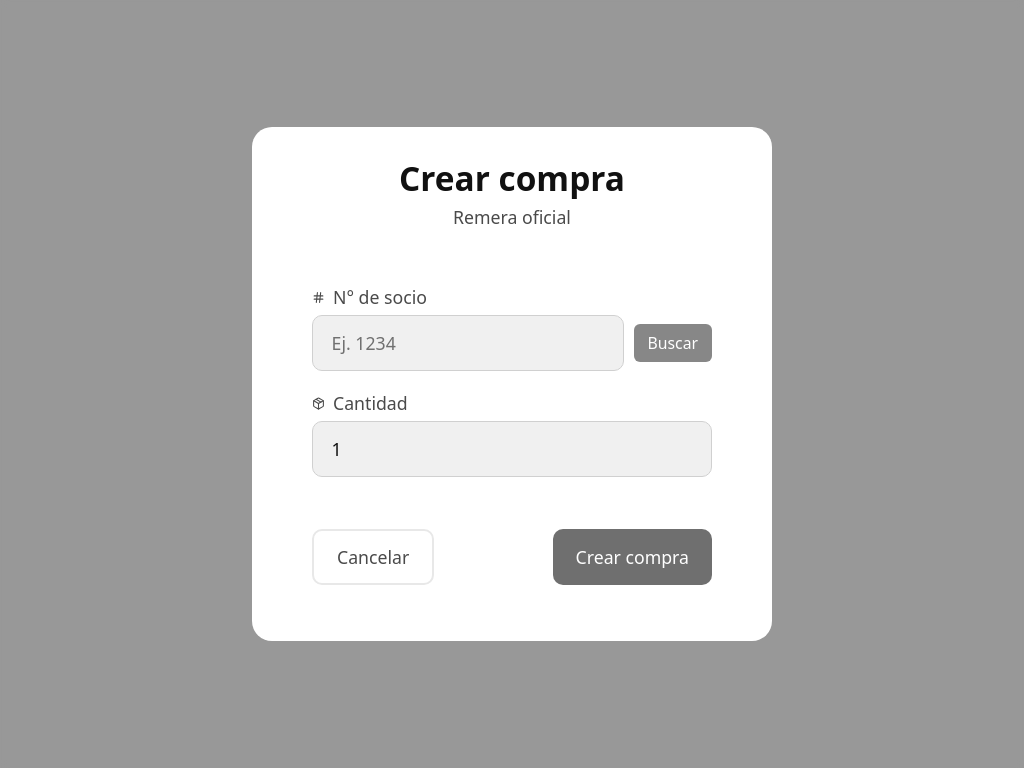
Scenario: CrearCompraForm › muestra el error de socio moroso indicando el socio incumpliendo
Type "1234" into the field with placeholder "Ej. 1234" at (468, 343), box [312,315,624,371]
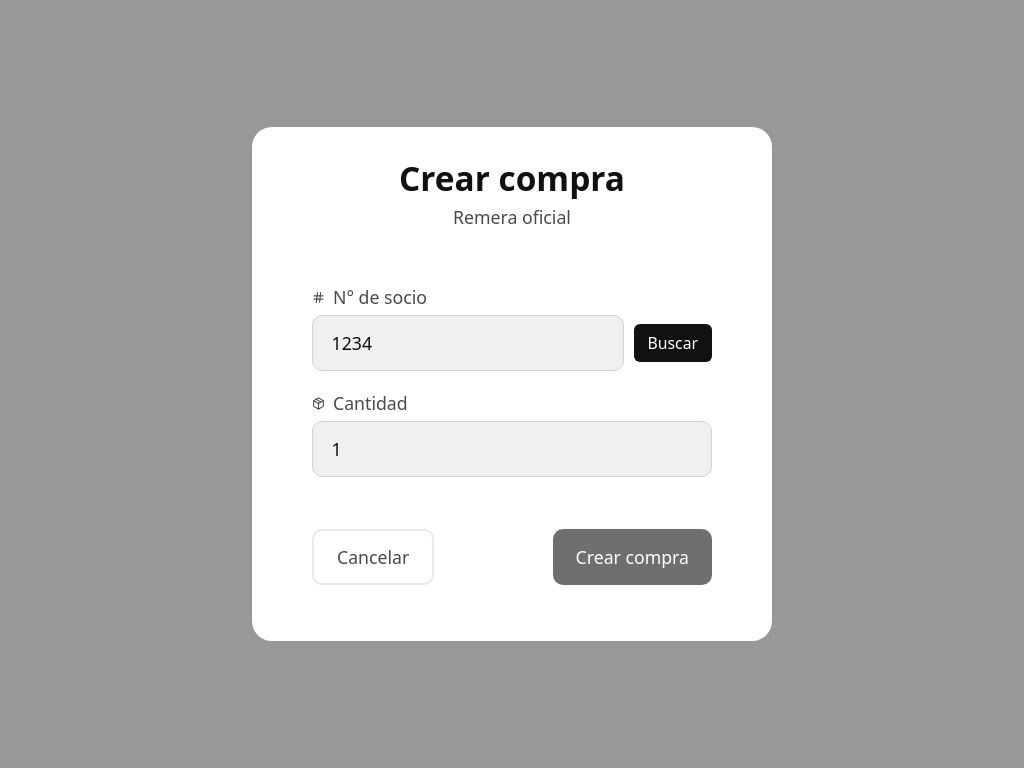
Click the button "Buscar" at (673, 343), box [634,324,712,362]
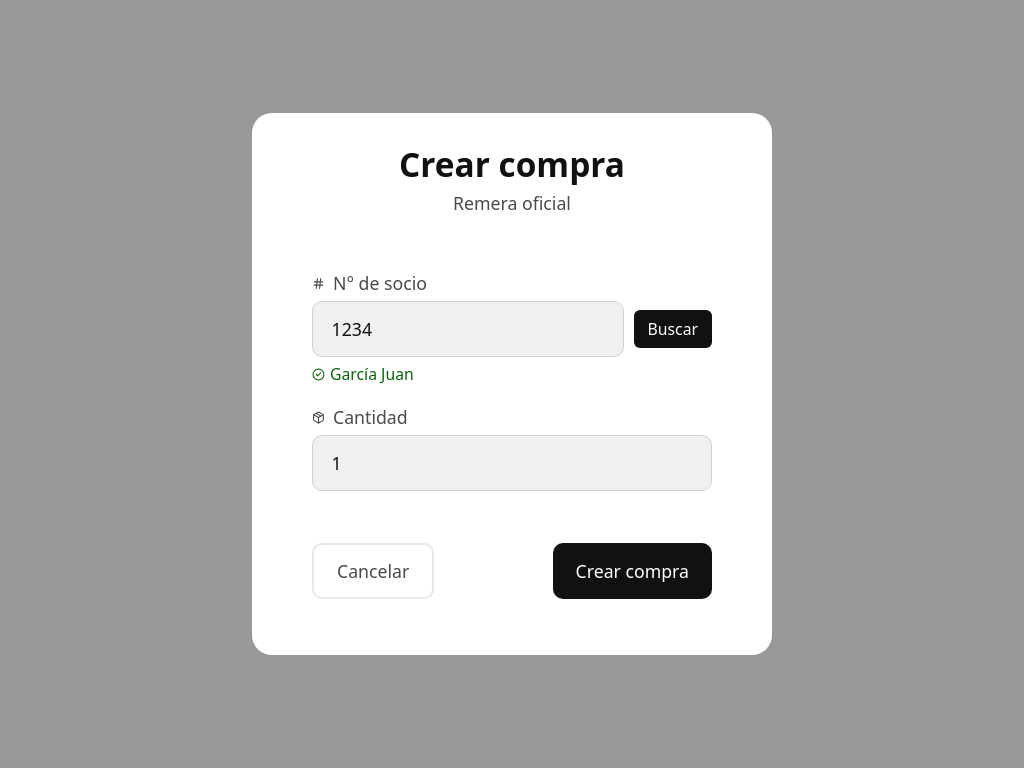
Result: the text "García Juan" is shown at [312,363,414,385]
Click the button "Crear compra" at (632, 571), box [552,543,712,599]
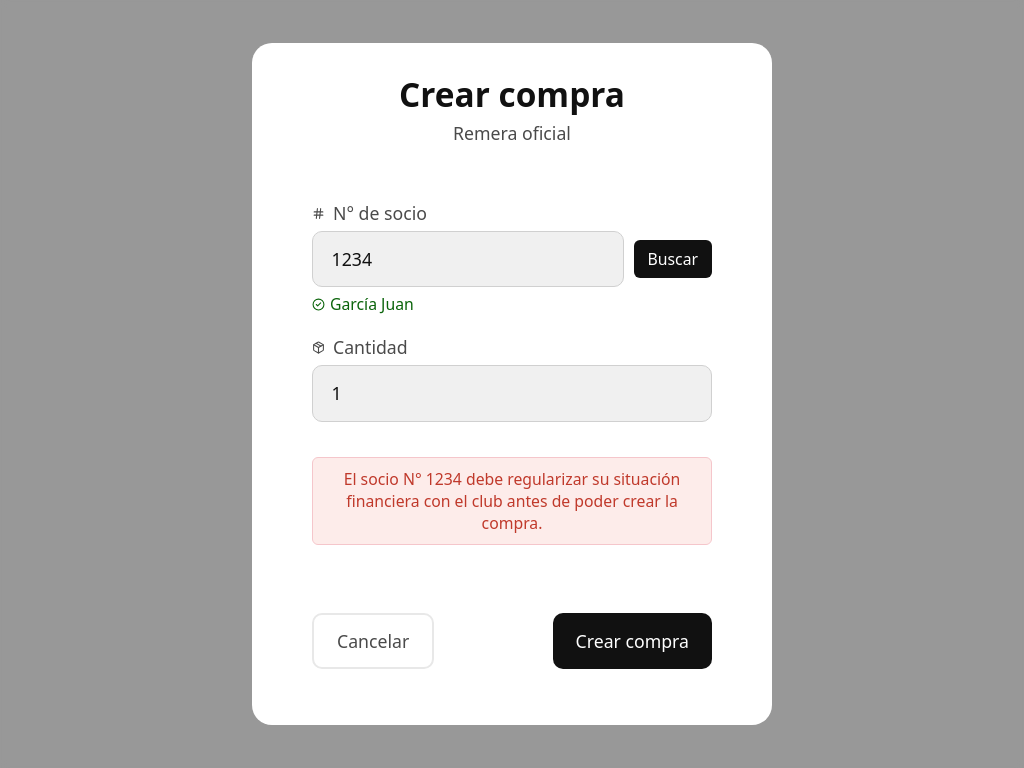
Result: the text "El socio N° 1234 debe regularizar su situación financiera con el club antes de poder crear la compra." is shown at [344,468,680,534]
